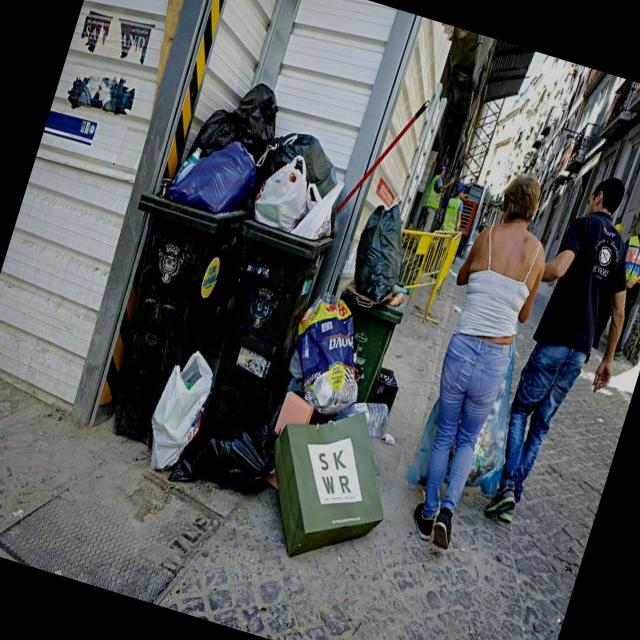high trash: (150, 206, 404, 554)
